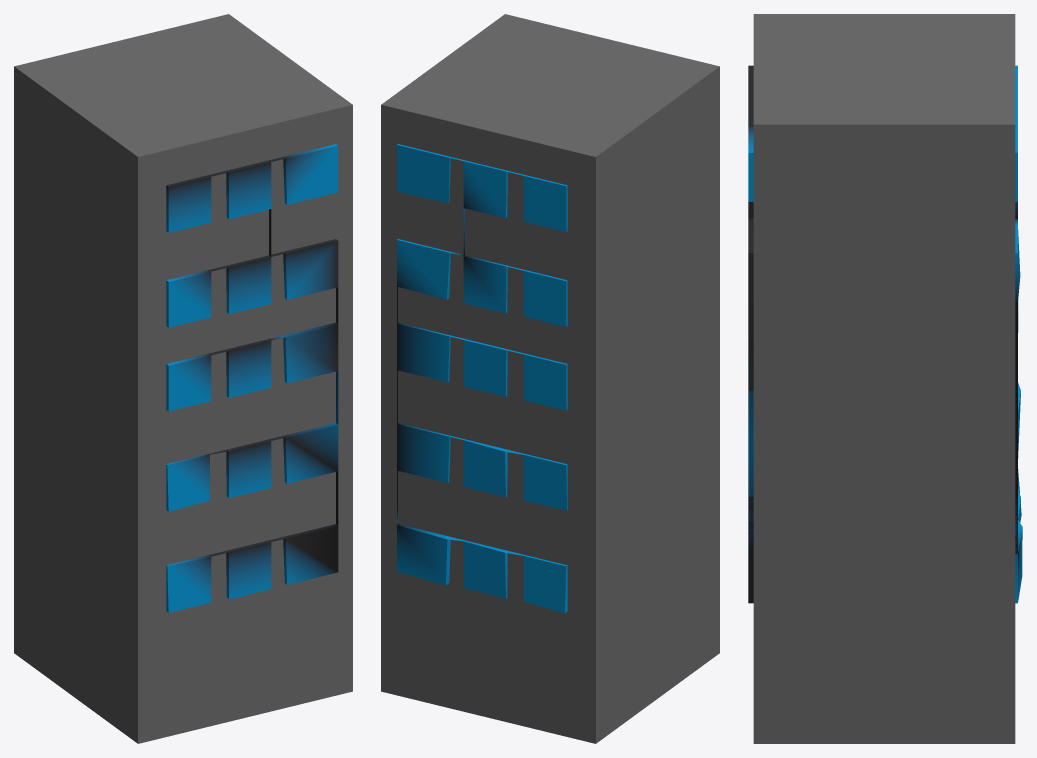
Rendered from buildingModel.glb.
The picture shows the model from 3 angles, left to right: view 1: azimuth 30°, elevation 25°; view 2: azimuth 150°, elevation 25°; view 3: azimuth 270°, elevation 25°; orthographic projection. The views are drawn at different scales.
Parts seen in each view (by area): view 1: Cube; view 2: Cube; view 3: Cube.
Boxes of the visible parts, x1,y1,x2,y2 form: Cube: [14, 14, 352, 743]; Cube: [381, 14, 719, 743]; Cube: [748, 14, 1022, 743].
Size of the model in its own units: 3.11 by 8.13 by 3.26.
